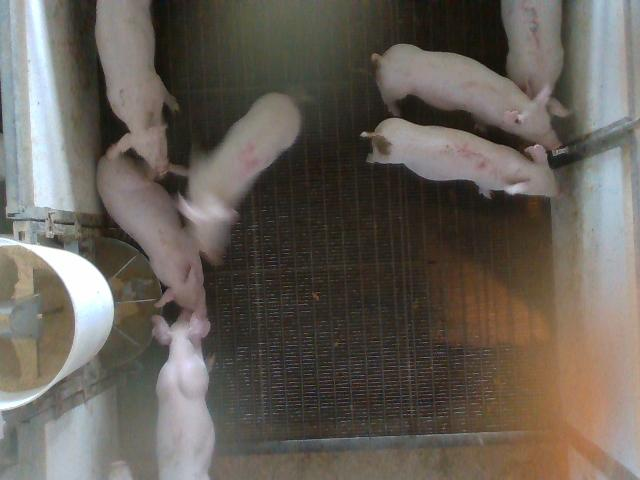pig-3: (501, 0, 561, 98)
pig-4: (179, 92, 301, 263)
pig-5: (361, 118, 558, 196)
